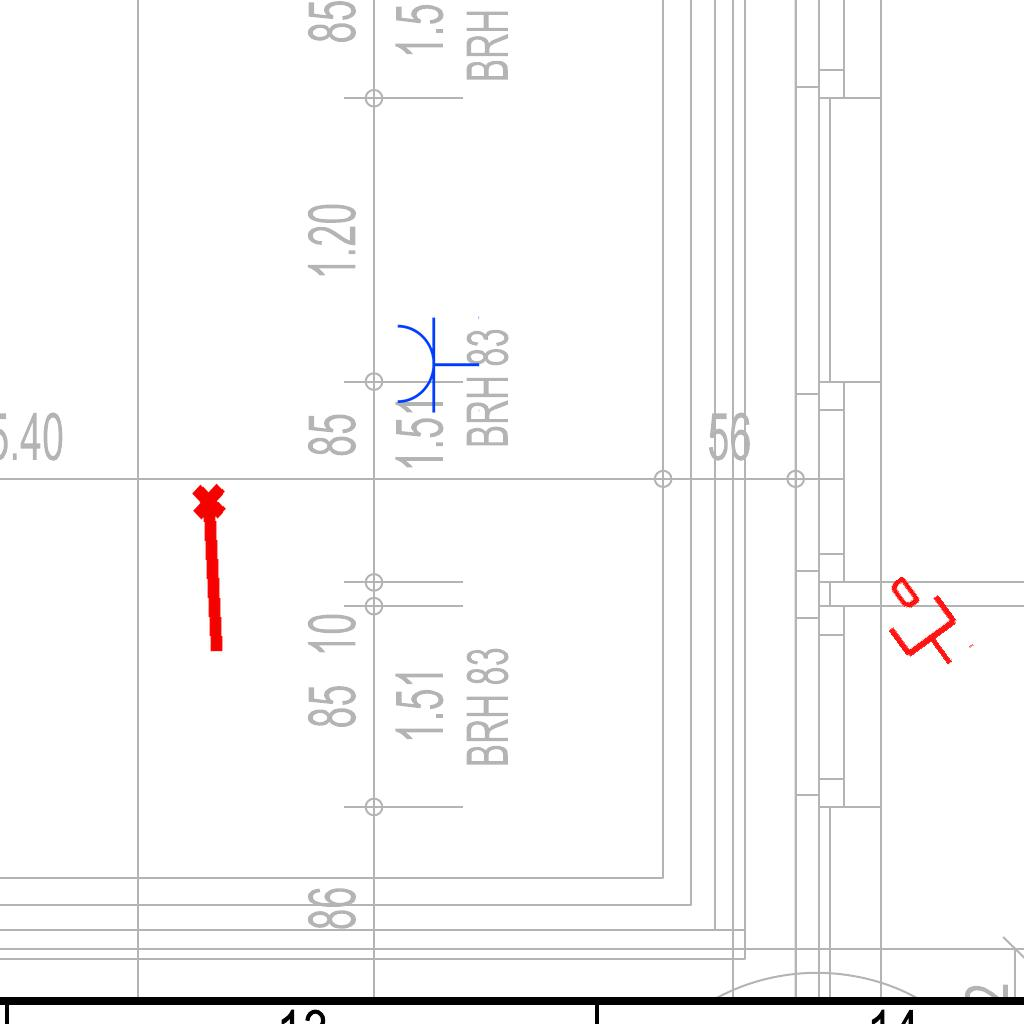ASR_Ansaugoeffnung: (187, 479, 243, 659)
Datenanschluss_einfach: (864, 563, 979, 685)
Schukosteckdose_einfach: (393, 314, 480, 414)
